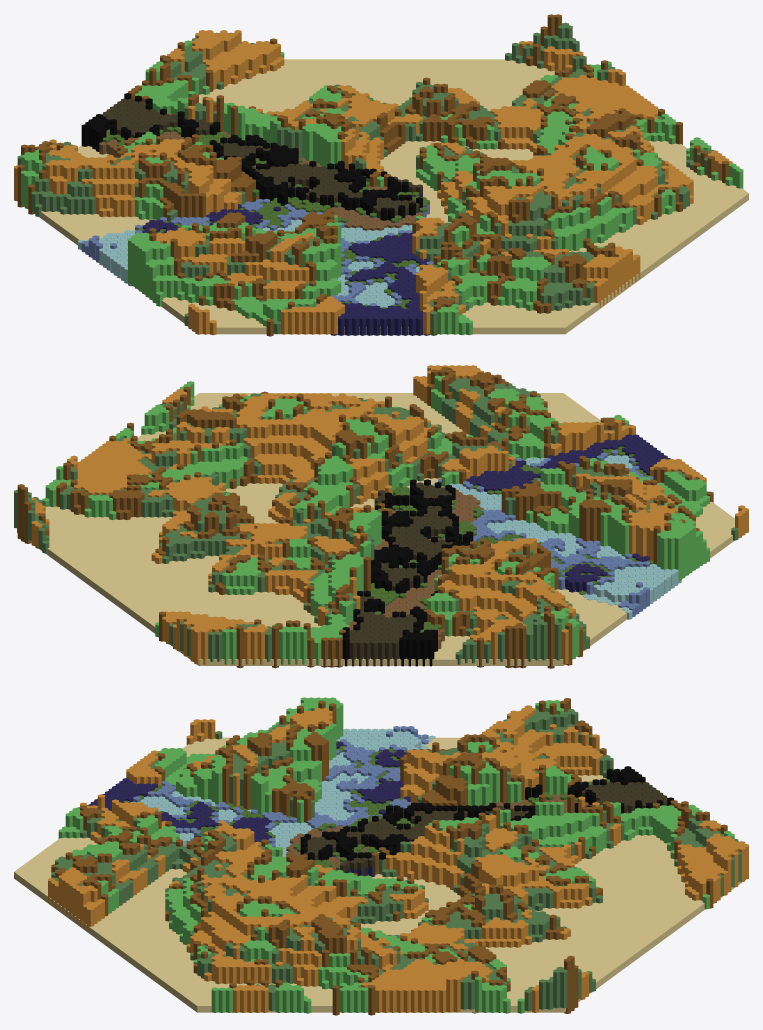
The model's file is 0025_tile_1001222.fbx.
3 views of the same model, one above another, from view 1: azimuth 30°, elevation 25°; view 2: azimuth 150°, elevation 25°; view 3: azimuth 270°, elevation 25° (orthographic).
Visible parts, largest first — view 1: Plane; view 2: Plane; view 3: Plane.
Boxes of the visible parts, x1=… form: Plane: x1=14, y1=14, x2=748, y2=336; Plane: x1=14, y1=365, x2=748, y2=668; Plane: x1=14, y1=697, x2=748, y2=1015.
Bounding box in the file's own units: 1008 × 90.41 × 1152.
